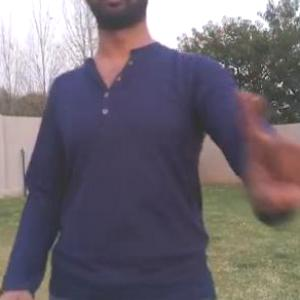takeoff-hand: (222, 88, 299, 227)
